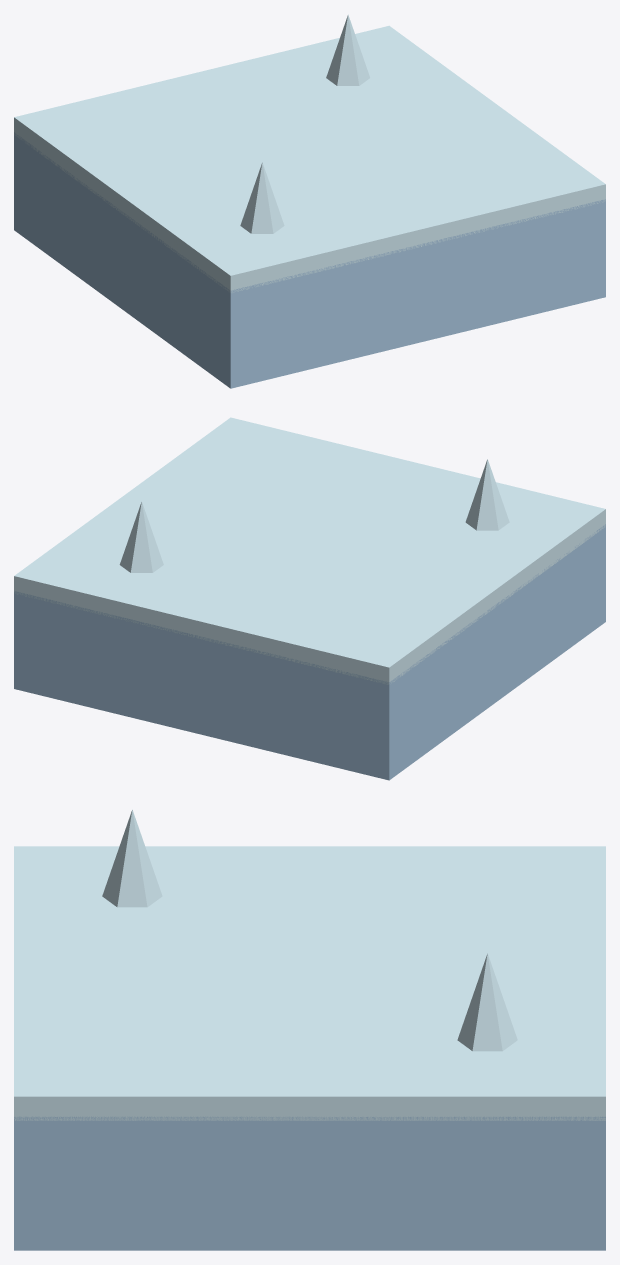
The model's file is terrain_ice.glb.
The picture shows the model from 3 angles, top to bottom: view 1: azimuth 30°, elevation 25°; view 2: azimuth 150°, elevation 25°; view 3: azimuth 270°, elevation 25°; orthographic projection. The views are drawn at different scales.
Parts seen in each view (by area): view 1: terrain_ice; view 2: terrain_ice; view 3: terrain_ice.
Boxes of the visible parts, x1,y1,x2,y2 form: terrain_ice: (14,14,605,388); terrain_ice: (14,417,605,780); terrain_ice: (14,809,605,1250).
Bounding box in the file's own units: 4 × 1.8 × 4.
